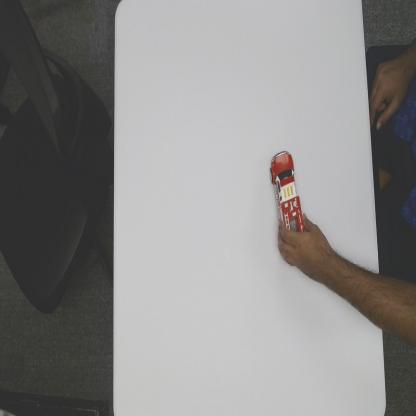Firetruck: (269, 150, 305, 232)
Hand: (277, 214, 335, 276)
